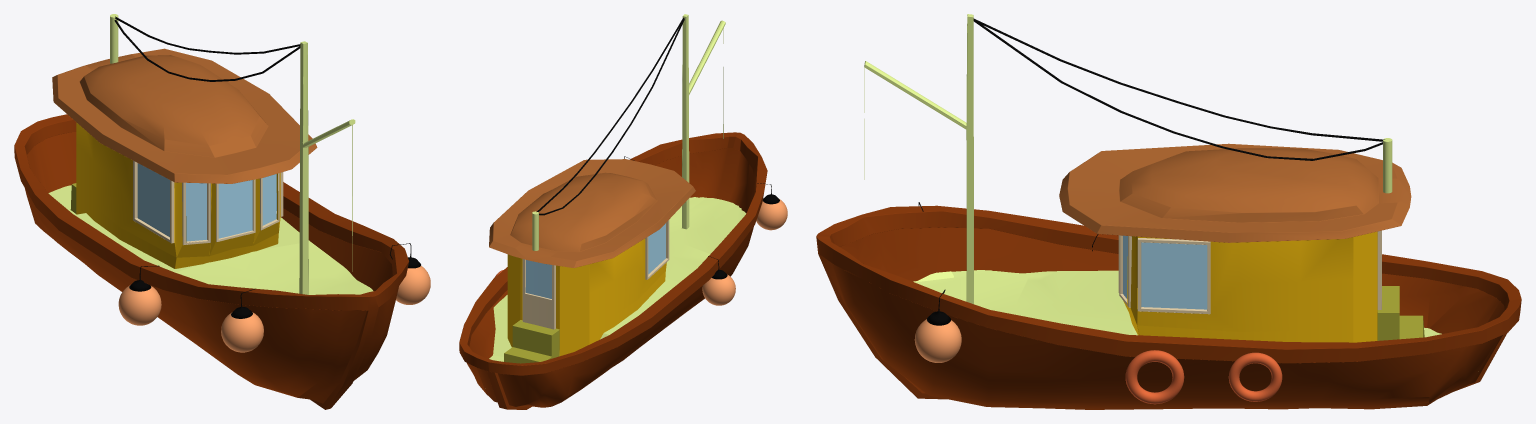
The model's file is Лодка.fbx.
3 renders of one model, left to right at view 1: azimuth 30°, elevation 25°; view 2: azimuth 150°, elevation 25°; view 3: azimuth 270°, elevation 25°, orthographic. The views are drawn at different scales.
Parts seen in each view (by area): view 1: Cube, Plane.006, Plane.005, Plane, Plane.002, Plane.003, Sphere.002, Sphere.001, Sphere.005, Cylinder, Cylinder.002, Cylinder.001; view 2: Cube, Plane.006, Plane, Plane.005, Plane.007, Plane.003, Plane.002, Sphere.002, Sphere.001, Cylinder, Cylinder.002; view 3: Cube, Plane.006, Plane, Plane.005, Plane.002, Plane.003, Torus.001, Plane.007, Sphere.005, Torus.002, Cylinder, Cylinder.002.
Boxes of the visible parts, x1,y1,x2,y2 form: Cube: [14, 114, 409, 409]; Plane.006: [52, 48, 317, 183]; Plane.005: [48, 41, 373, 294]; Plane: [76, 122, 280, 268]; Plane.002: [137, 163, 276, 241]; Plane.003: [133, 160, 283, 244]; Sphere.002: [118, 285, 161, 325]; Sphere.001: [221, 312, 263, 352]; Sphere.005: [396, 266, 430, 304]; Cylinder: [114, 20, 300, 81]; Cylinder.002: [115, 16, 300, 54]; Cylinder.001: [110, 14, 118, 63]; Cube: [459, 132, 767, 409]; Plane.006: [489, 159, 695, 267]; Plane: [507, 238, 666, 355]; Plane.005: [489, 14, 746, 361]; Plane.007: [503, 320, 559, 363]; Plane.003: [522, 220, 669, 329]; Plane.002: [525, 223, 665, 298]; Sphere.002: [702, 274, 735, 305]; Sphere.001: [756, 199, 787, 230]; Cylinder: [539, 18, 684, 215]; Cylinder.002: [537, 18, 684, 211]; Cube: [816, 205, 1521, 409]; Plane.006: [1059, 143, 1411, 242]; Plane: [1123, 231, 1377, 342]; Plane.005: [864, 14, 1441, 337]; Plane.002: [1123, 235, 1207, 309]; Plane.003: [1118, 230, 1381, 314]; Torus.001: [1125, 350, 1184, 404]; Plane.007: [1377, 286, 1424, 340]; Sphere.005: [914, 319, 961, 362]; Torus.002: [1228, 352, 1282, 401]; Cylinder: [974, 21, 1382, 160]; Cylinder.002: [973, 18, 1384, 141].
Bounding box in the file's own units: 919 × 1342 × 2209.
